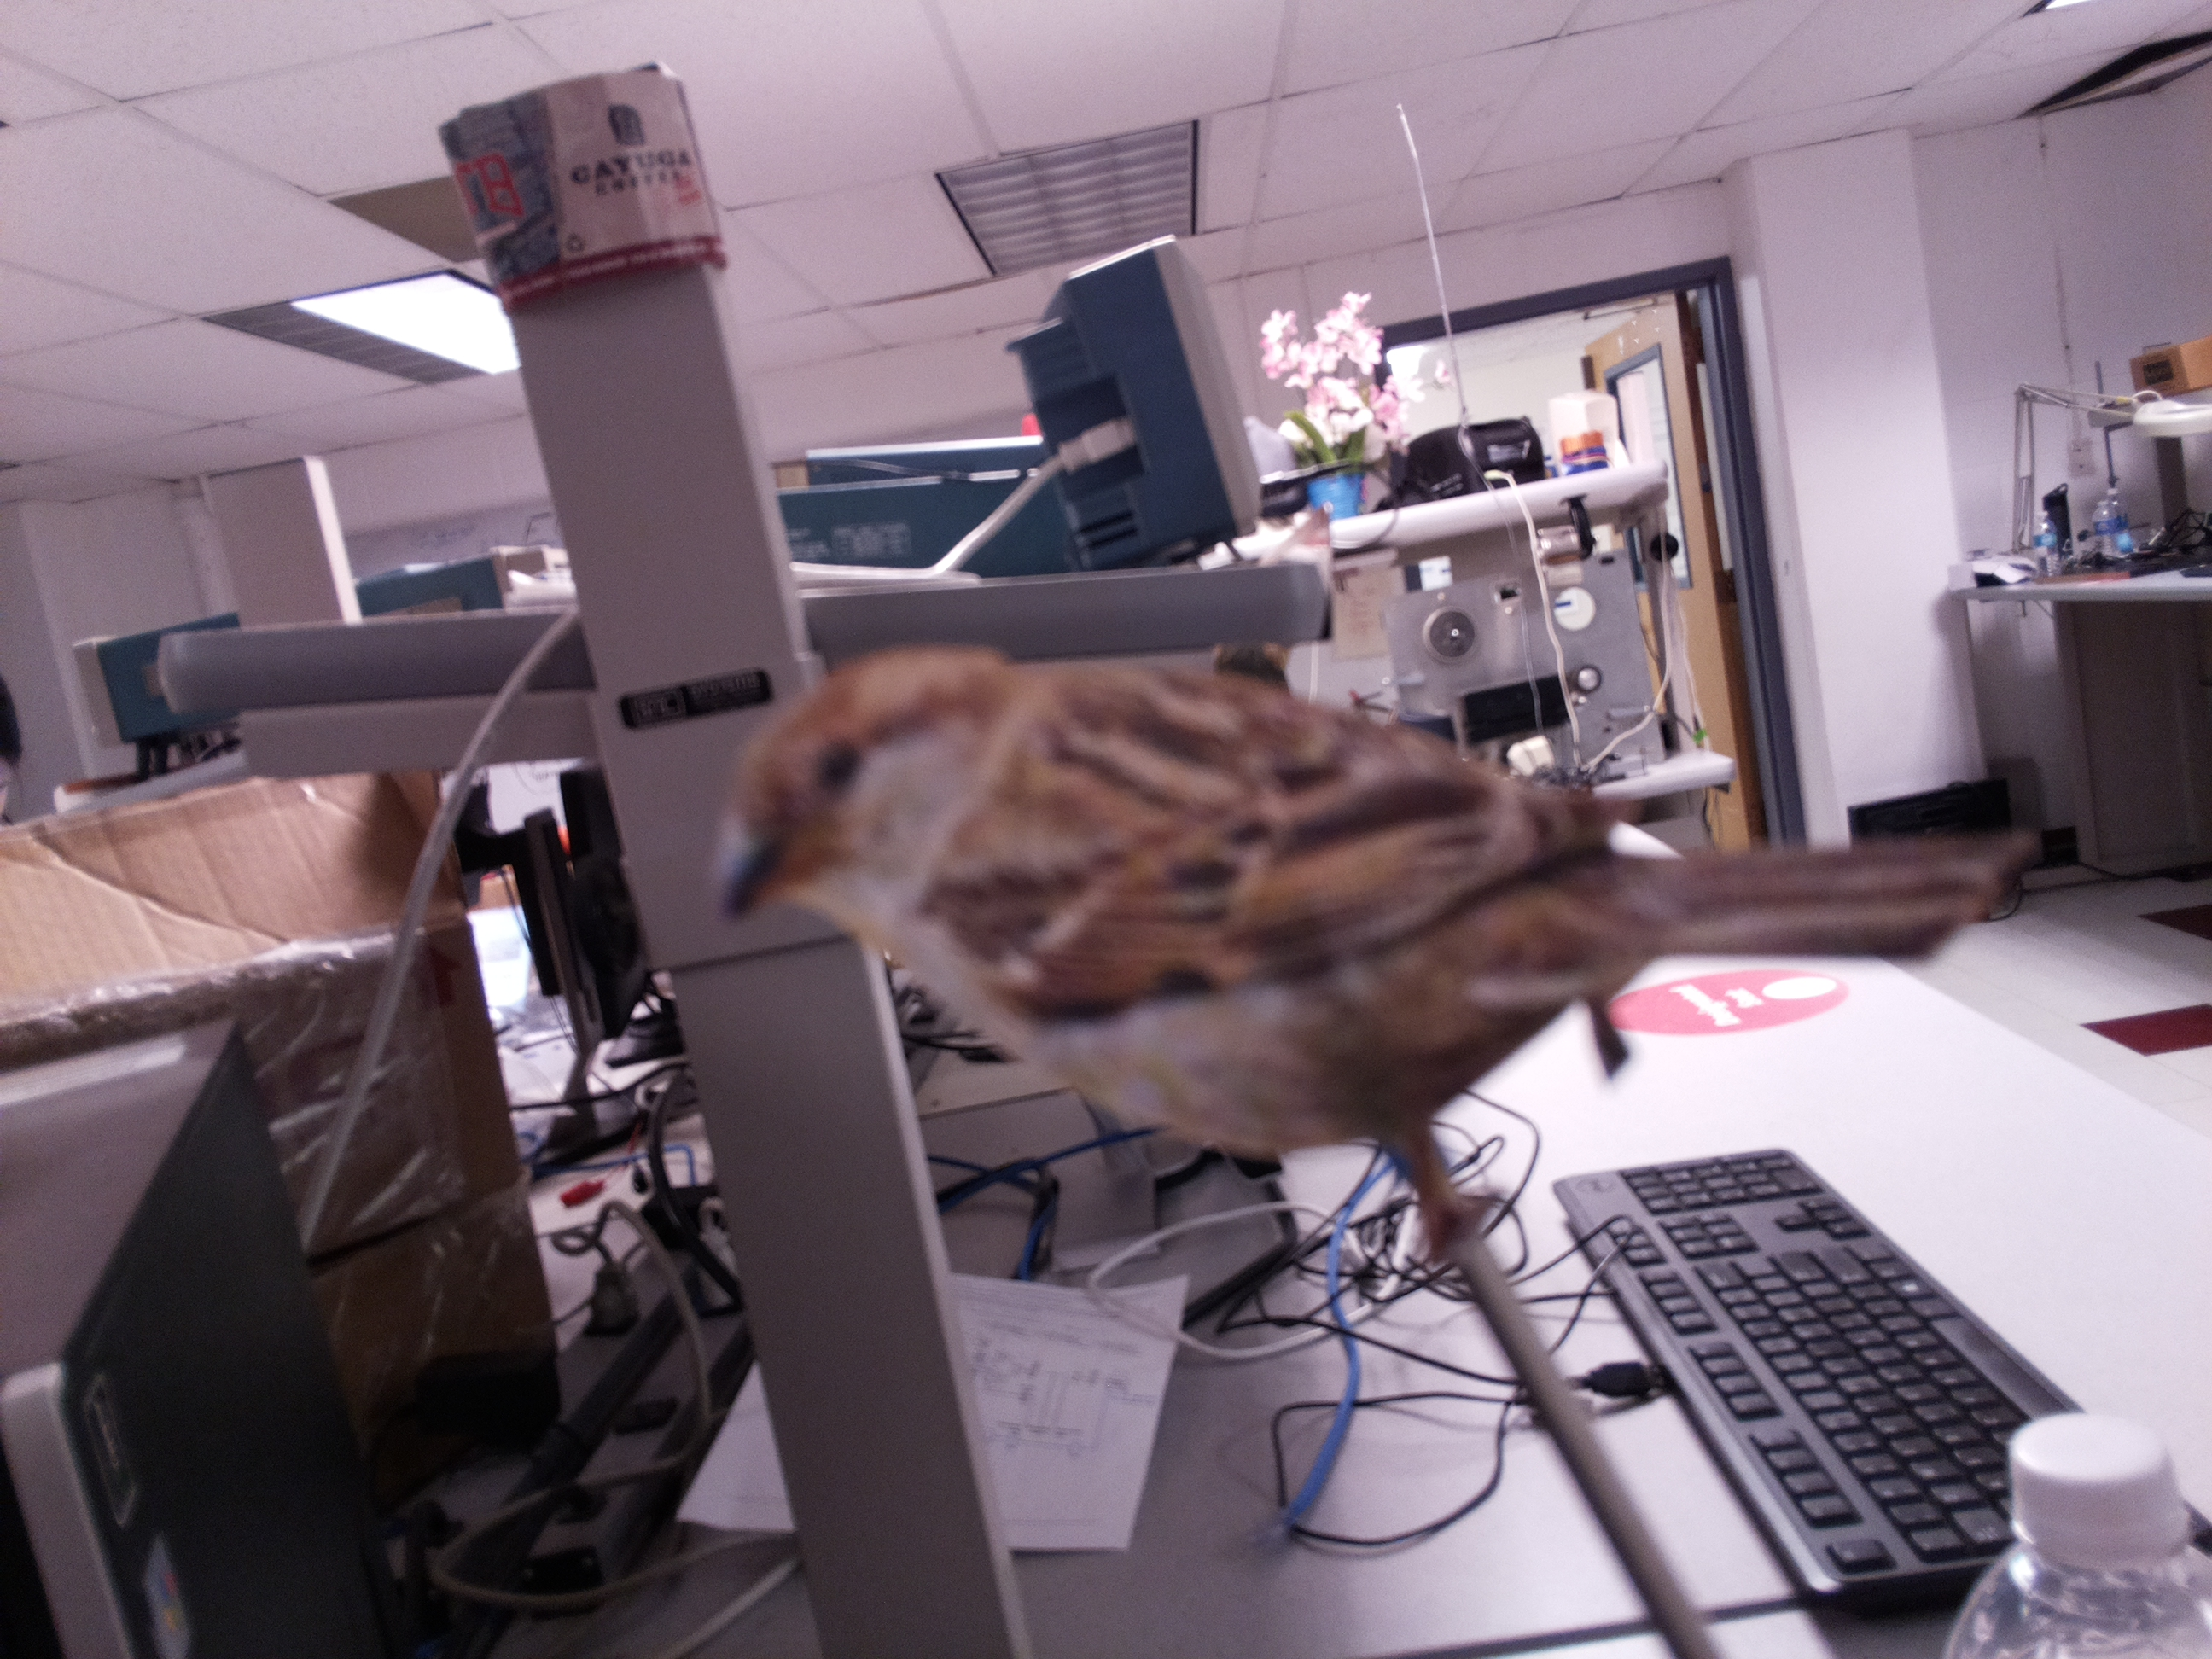bird: (712, 636, 2010, 1244)
